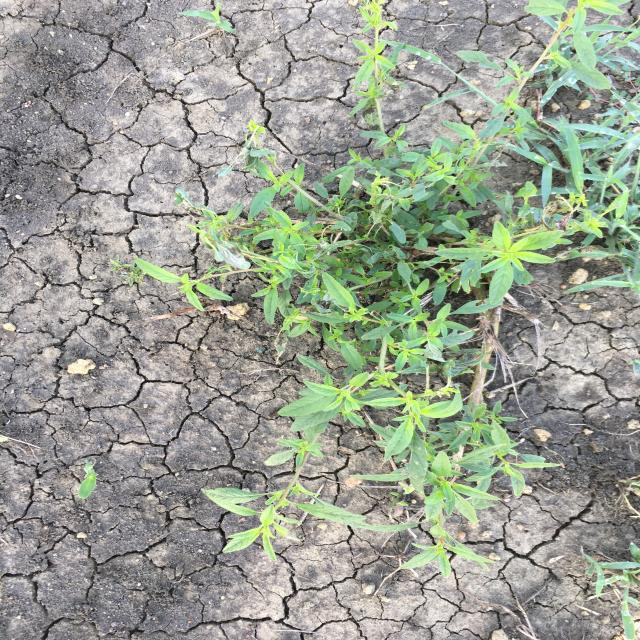Waterhemp: (130, 1, 636, 580)
